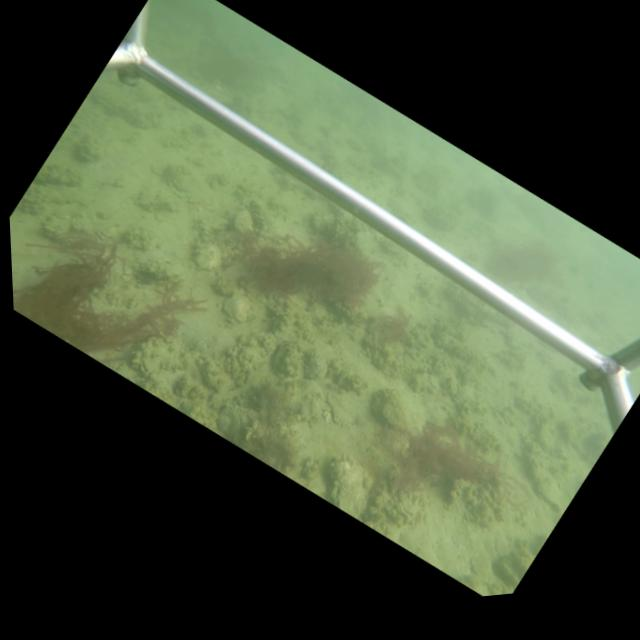Oyster-Closed: (325, 455, 374, 519), (189, 241, 224, 273)
Oyster-Indeterminate: (376, 387, 408, 434), (219, 289, 252, 322)
Oyster-Open: (226, 208, 254, 232)
